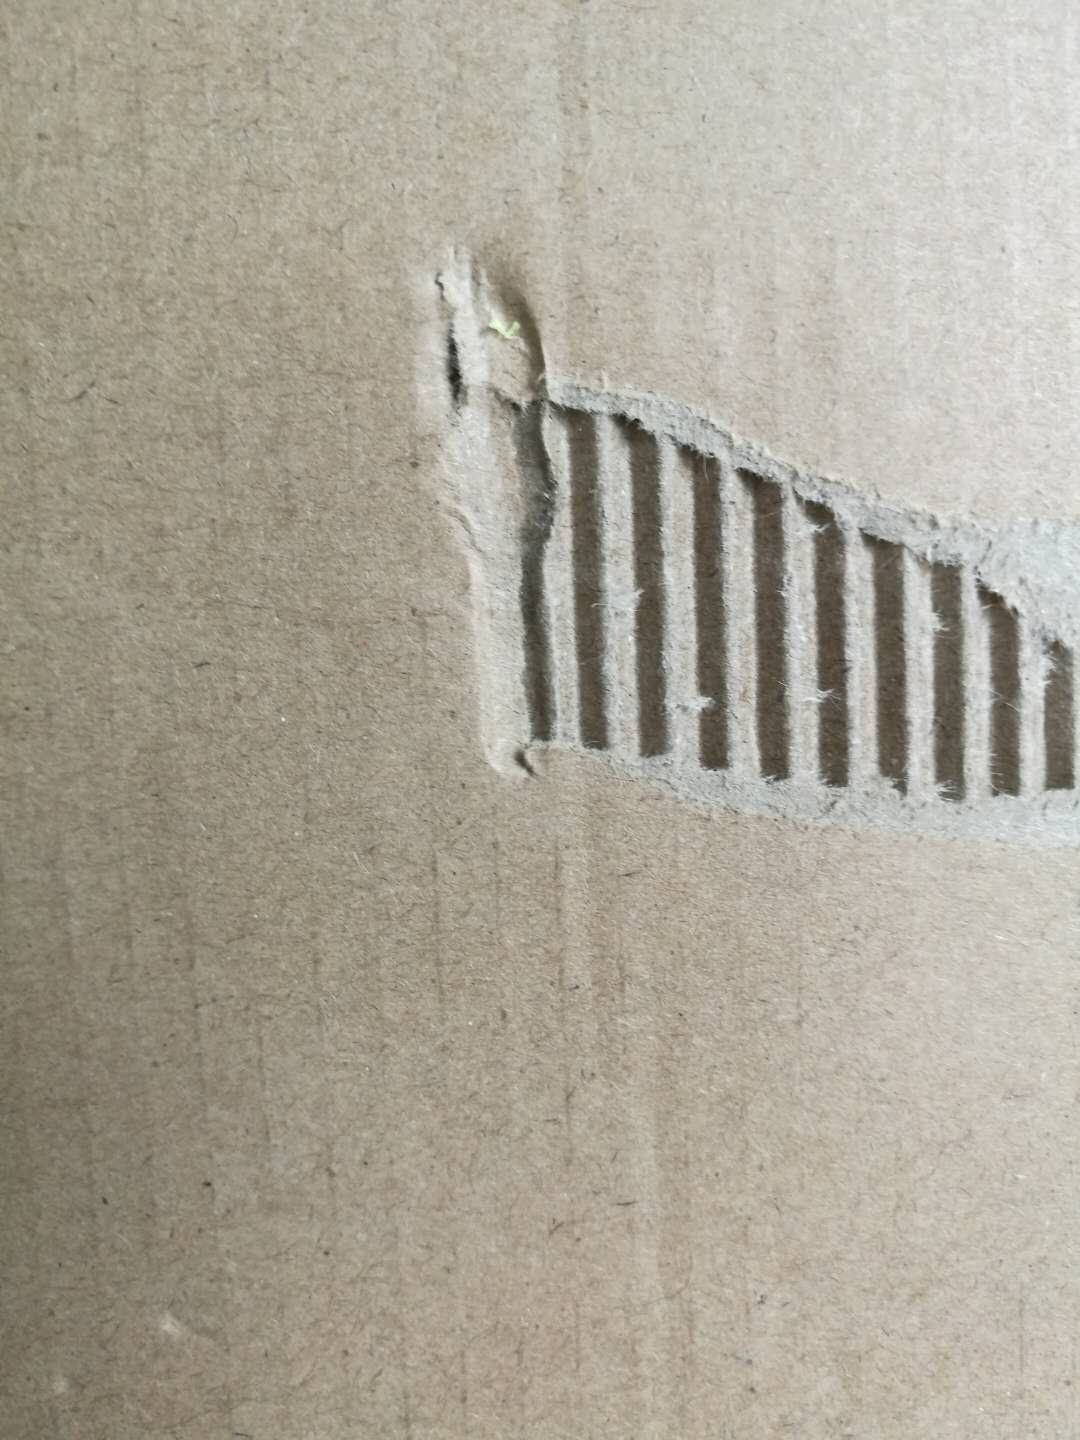defect: (348, 201, 1080, 991)
